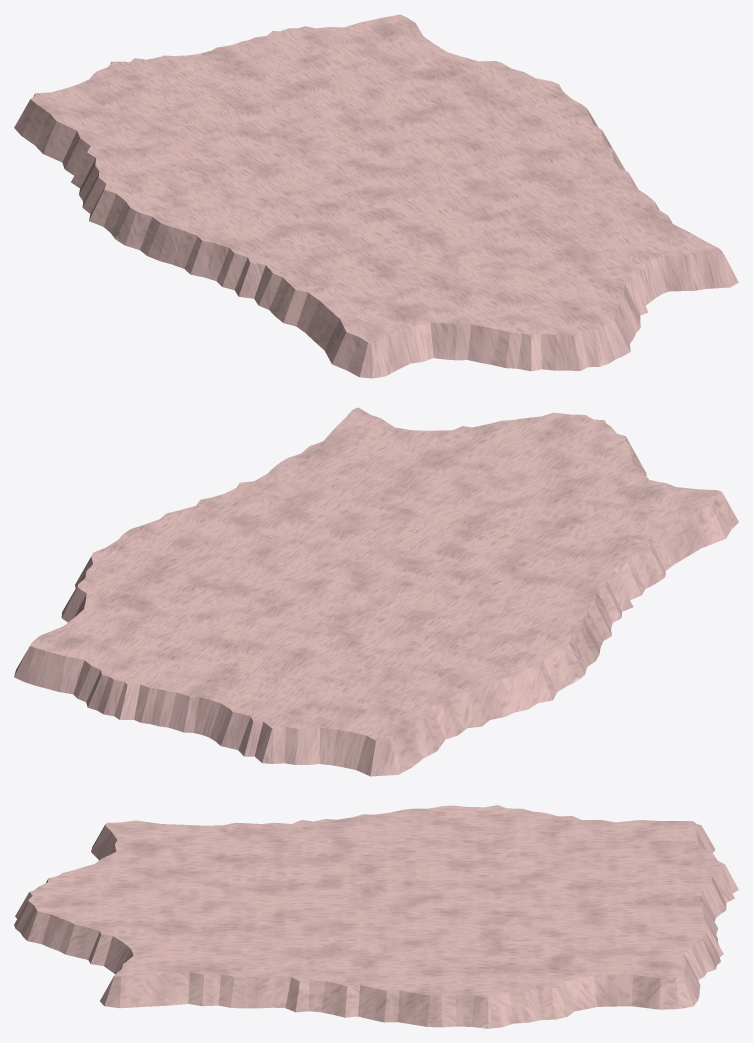
The model's file is rug-sheepskin-blush.glb.
3 views of the same model, one above another, from view 1: azimuth 30°, elevation 25°; view 2: azimuth 150°, elevation 25°; view 3: azimuth 270°, elevation 25° (orthographic). The views are drawn at different scales.
Parts seen in each view (by area): view 1: rug-sheepskin-blush; view 2: rug-sheepskin-blush; view 3: rug-sheepskin-blush.
Part boxes in pixels (x1,y1,x2,y2): rug-sheepskin-blush: (14, 14, 738, 378); rug-sheepskin-blush: (14, 407, 738, 776); rug-sheepskin-blush: (14, 805, 738, 1028).
Bounding box in the file's own units: 0.6037 × 0.035 × 0.9052.
1 material, 1 textured.
